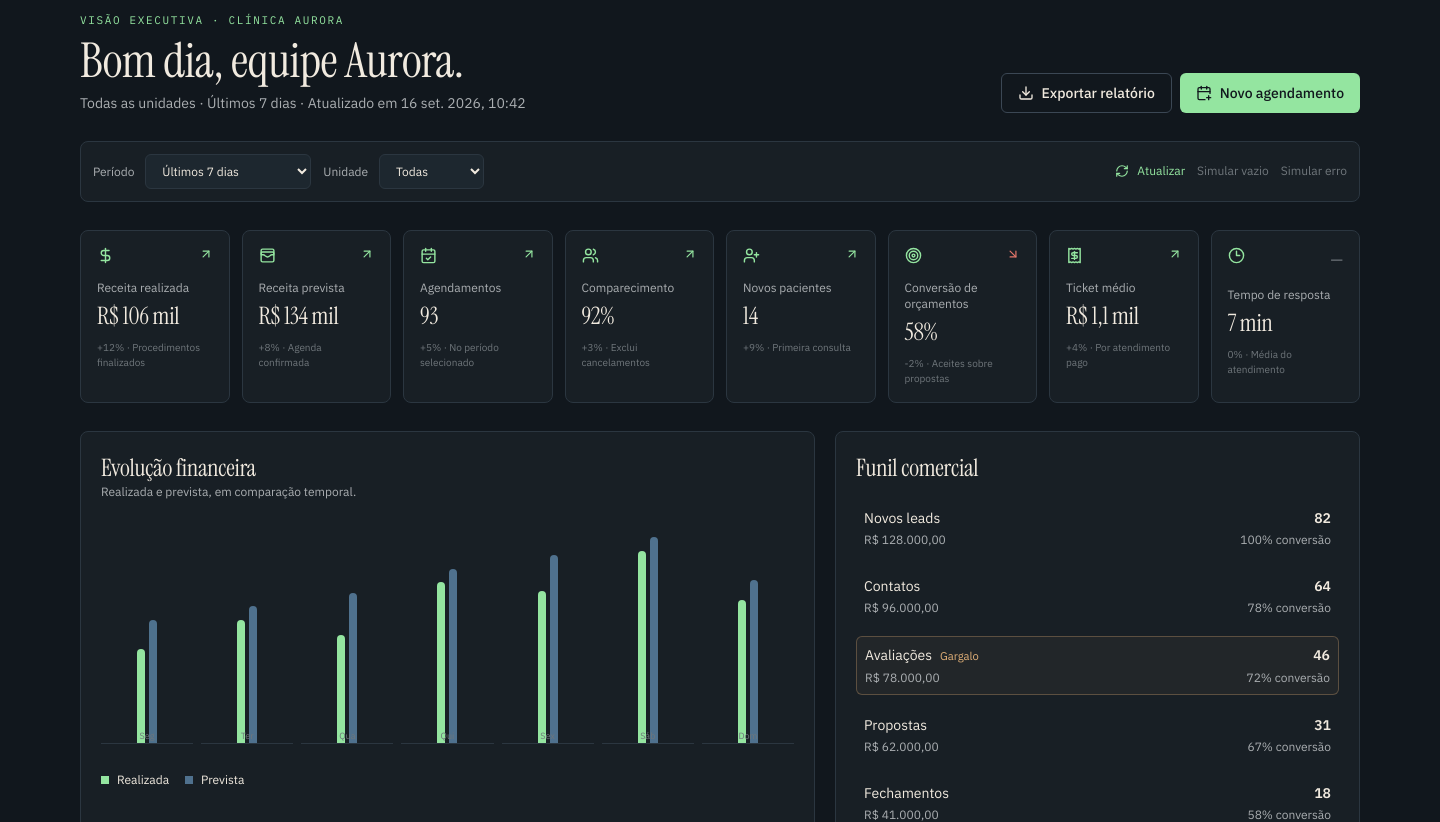
dashboard demonstrativo › renderiza oito KPIs, agenda e altera período e unidade
Select "Últimos 30 dias" in the dropdown named "Período do dashboard" at (228, 171), box [145,154,311,188]
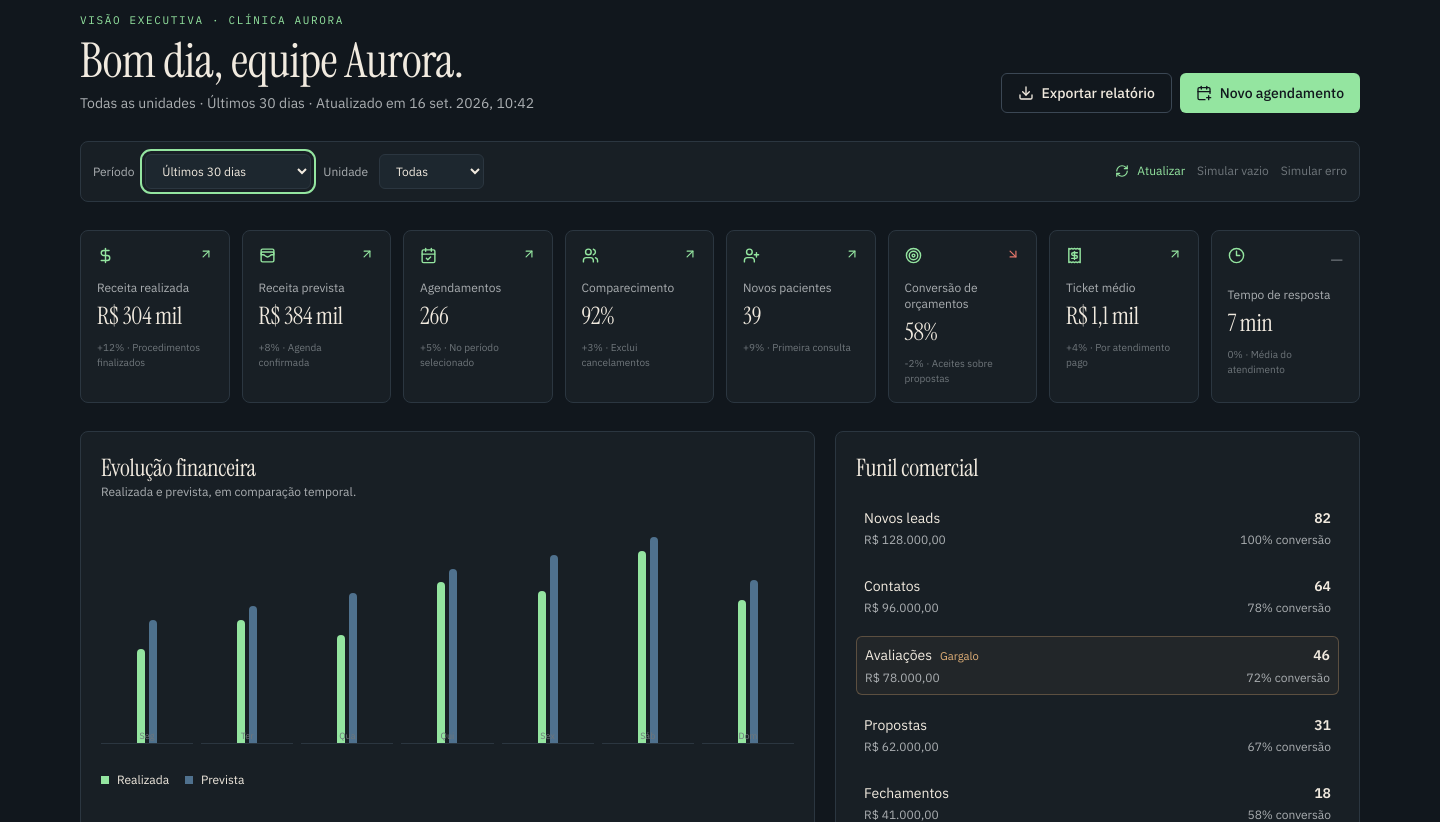
Select "Zona Leste" in the dropdown named "Unidade do dashboard" at (432, 171), box [379,154,484,188]
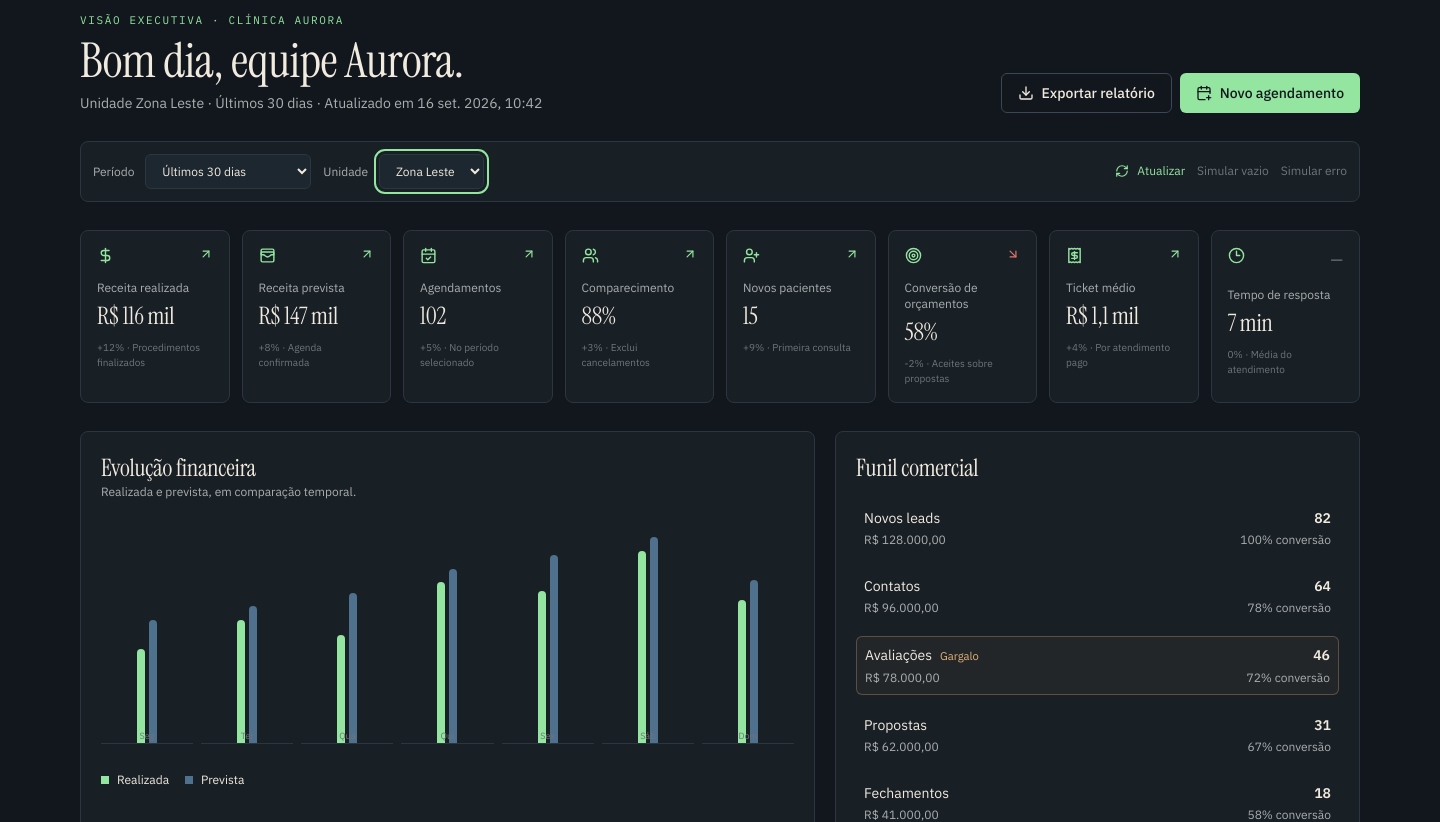
Now the text "Unidade Zona Leste" is shown, box [80,94,204,112]
